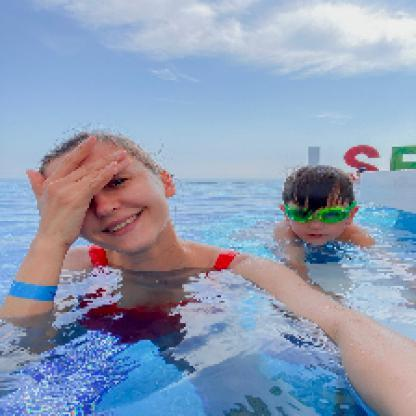child: (271, 163, 377, 277)
